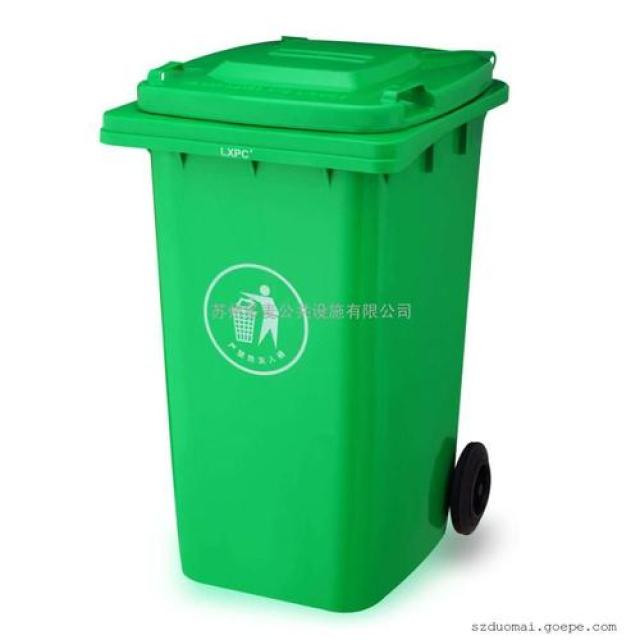garbage_bin: (99, 35, 508, 613)
